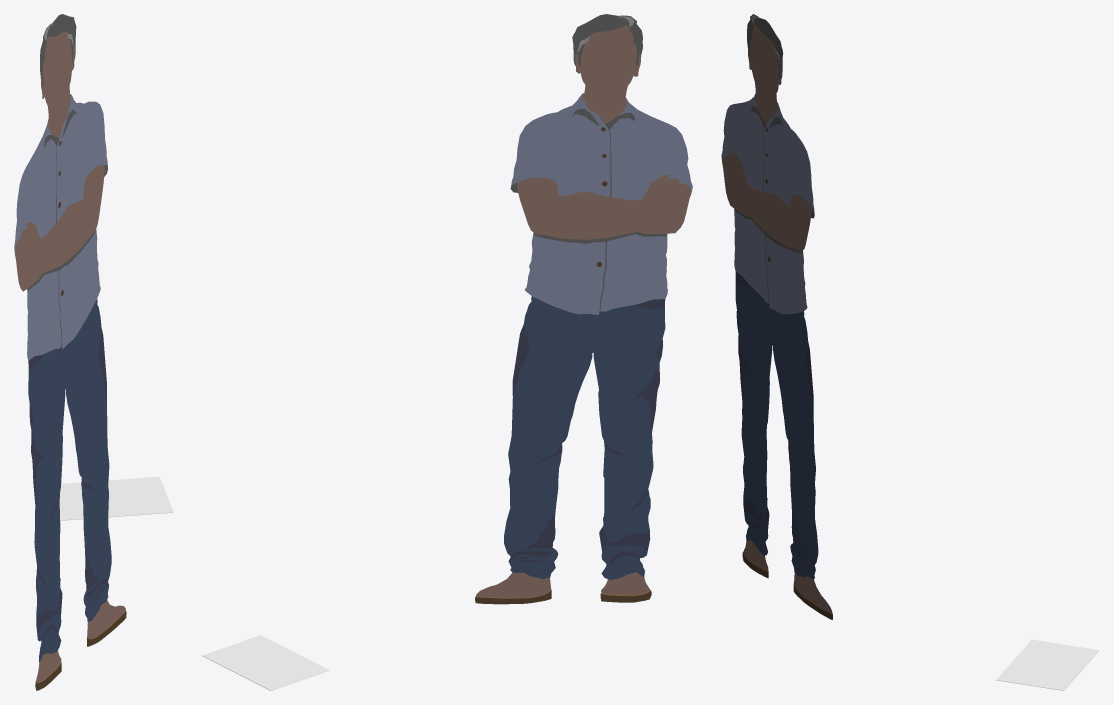
Rendered from paper_sheet_small.fbx.
3 views of the same model, side by side, from view 1: azimuth 30°, elevation 25°; view 2: azimuth 150°, elevation 25°; view 3: azimuth 270°, elevation 25° (orthographic). The views are drawn at different scales.
Visible parts, largest first — view 1: Niraj1, Group1; view 2: Niraj1, Group1; view 3: Niraj1, Group1.
Part boxes in pixels (box(x1,y1,x2,y2)): Niraj1: box(14, 14, 126, 690); Group1: box(59, 476, 173, 520); Niraj1: box(475, 14, 692, 604); Group1: box(202, 635, 329, 690); Niraj1: box(721, 14, 832, 619); Group1: box(996, 639, 1099, 690).
Size of the model in its own units: 38.85 by 70.5 by 43.24.
